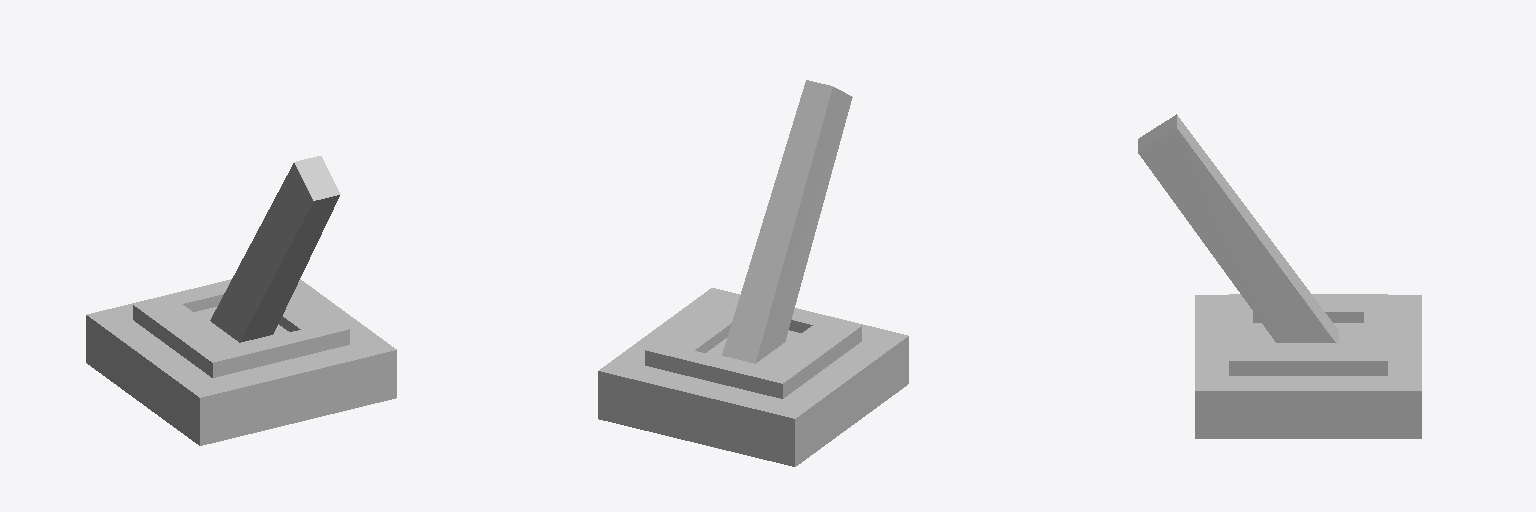
Rendered from lever.obj.
3 renders of one model, left to right at view 1: azimuth 30°, elevation 25°; view 2: azimuth 150°, elevation 25°; view 3: azimuth 270°, elevation 25°, orthographic.
Visible parts, largest first — view 1: Cube; view 2: Cube; view 3: Cube.
Part boxes in pixels (x1,y1,x2,y2): Cube: (86,156,396,445); Cube: (598,80,908,466); Cube: (1138,114,1421,438).
Bounding box in the file's own units: 0.4 × 0.5241 × 0.5008.